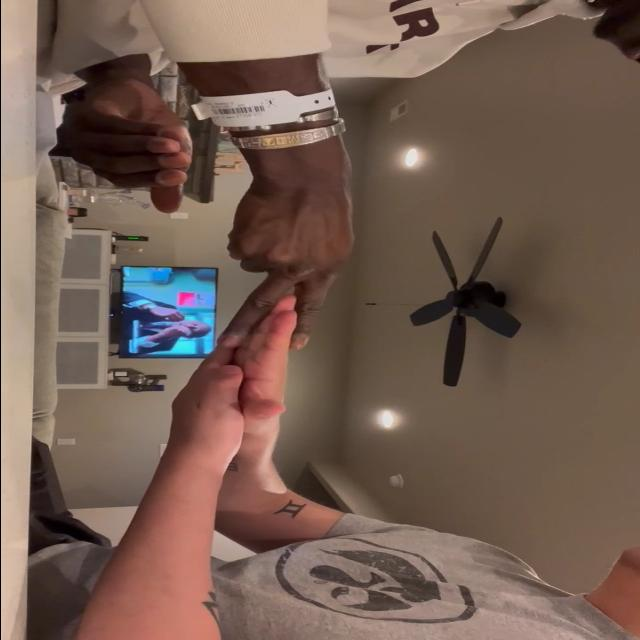Scissors: (214, 169, 355, 351), (238, 296, 300, 438)
